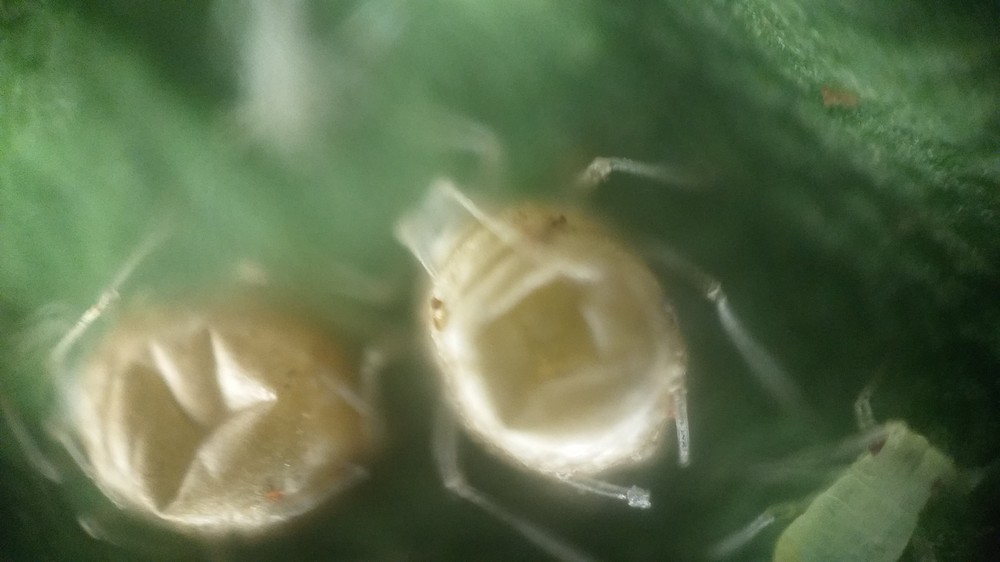Pulgon: (348, 154, 774, 548), (30, 260, 417, 548), (732, 372, 989, 562)
